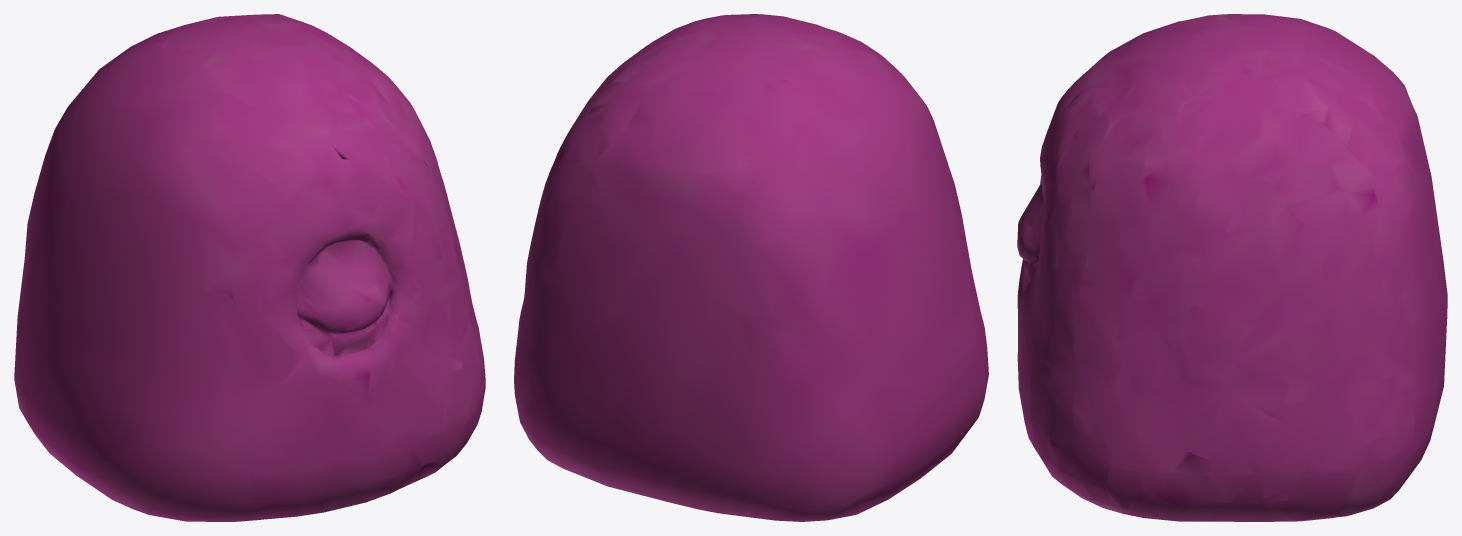
The model's file is slammer.glb.
3 views of the same model, side by side, from view 1: azimuth 30°, elevation 25°; view 2: azimuth 150°, elevation 25°; view 3: azimuth 270°, elevation 25° (orthographic).
Parts seen in each view (by area): view 1: geometry_0; view 2: geometry_0; view 3: geometry_0.
Boxes of the visible parts, x1,y1,x2,y2 form: geometry_0: [14, 14, 485, 521]; geometry_0: [514, 14, 988, 521]; geometry_0: [1017, 14, 1447, 521].
Size of the model in its own units: 1.85 by 1.9 by 1.77.
